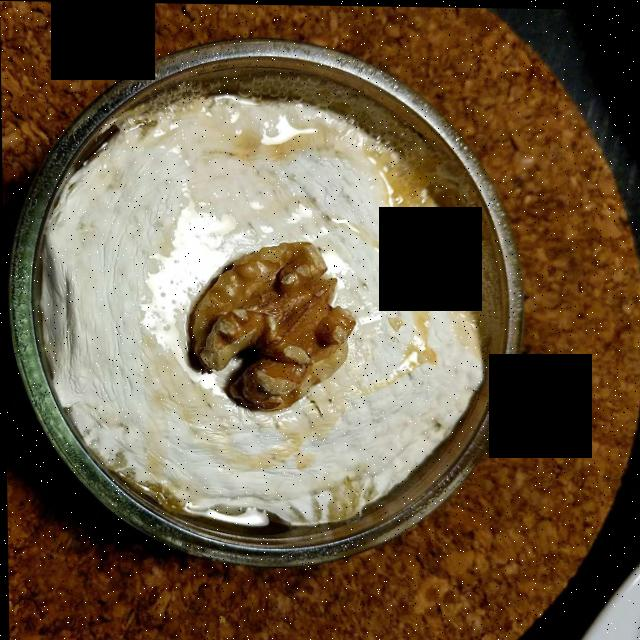walnut: (188, 246, 357, 401)
